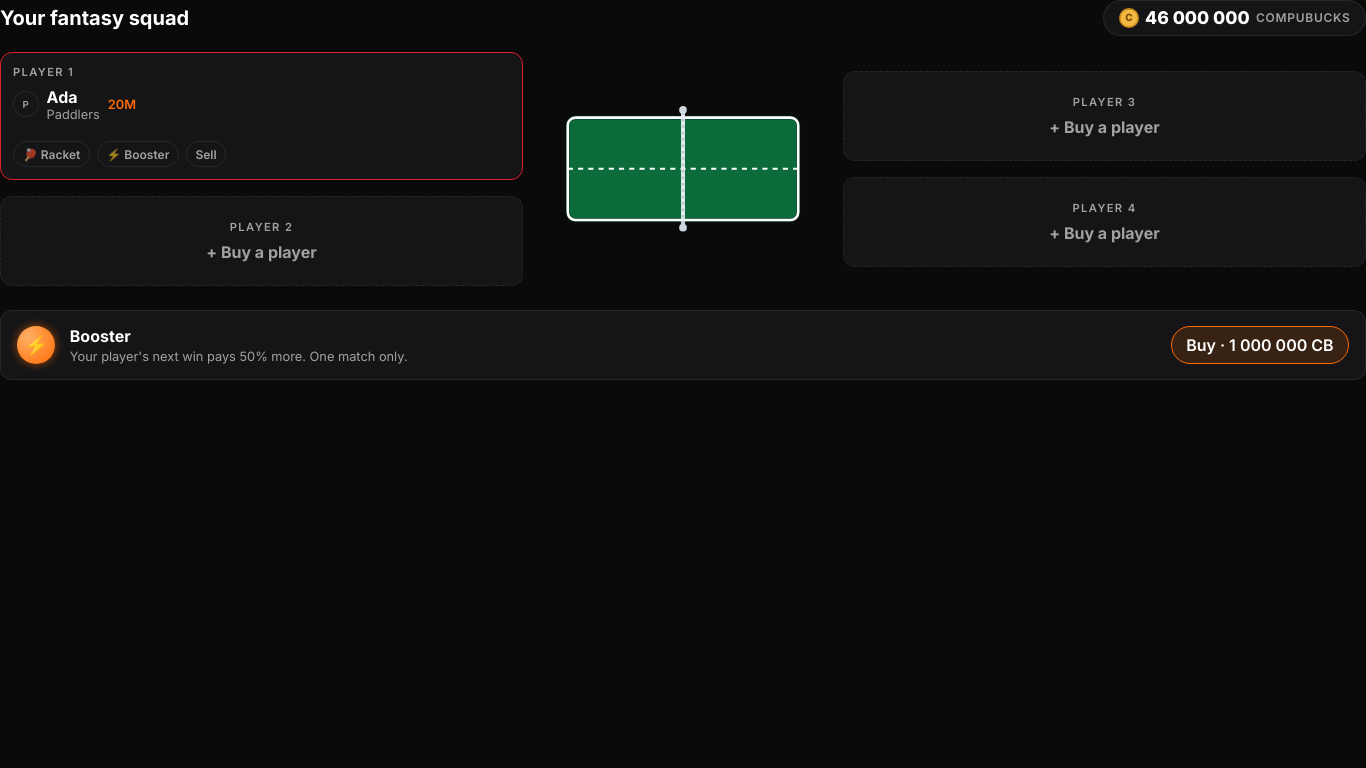
Test: FantasyTeam › shows the Save button as soon as something changes, and hides it when reverted
Expected: the button "save team" is not shown
Click the button "Player 2 + Buy a player": (262, 241) [1, 197, 522, 285]
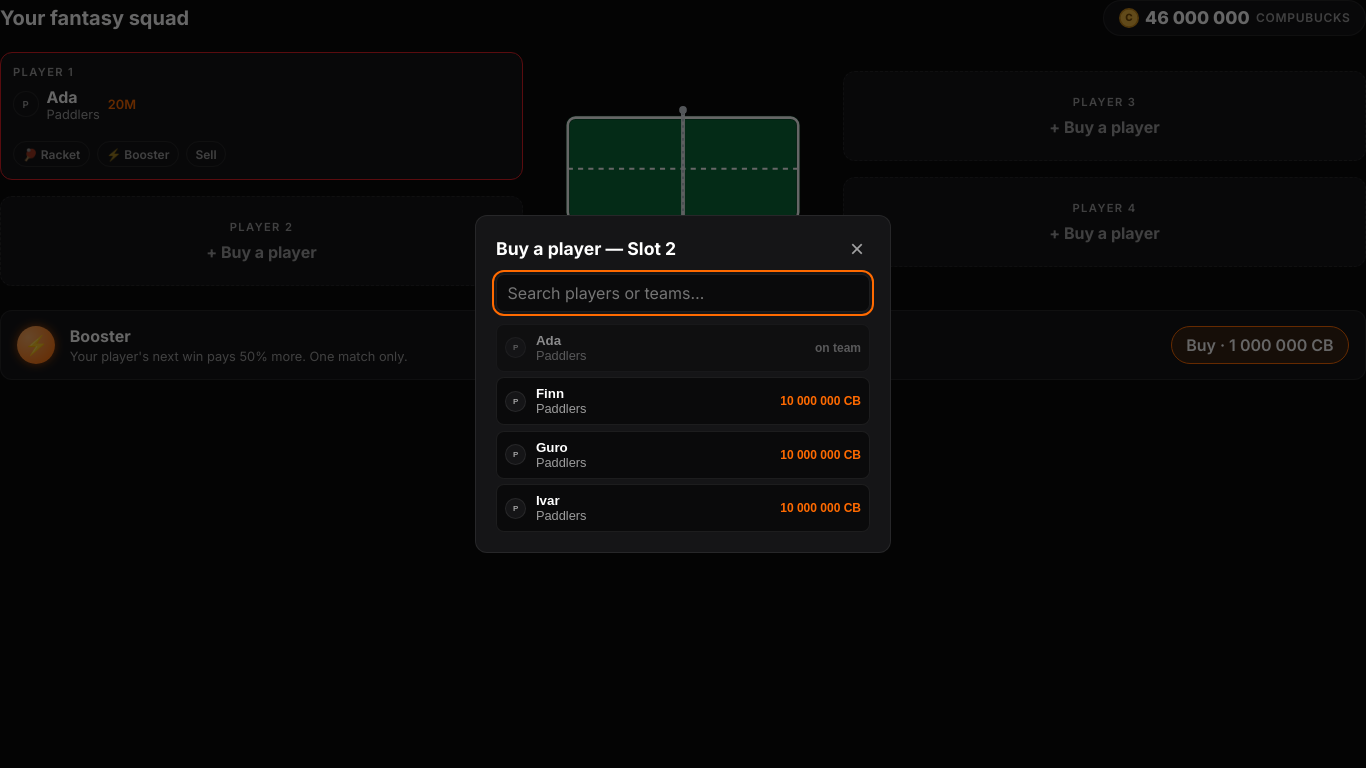
Expected: the dialog is shown
Click the button "P Finn Paddlers 10 000 000 CB": (561, 409) [496, 377, 870, 425]
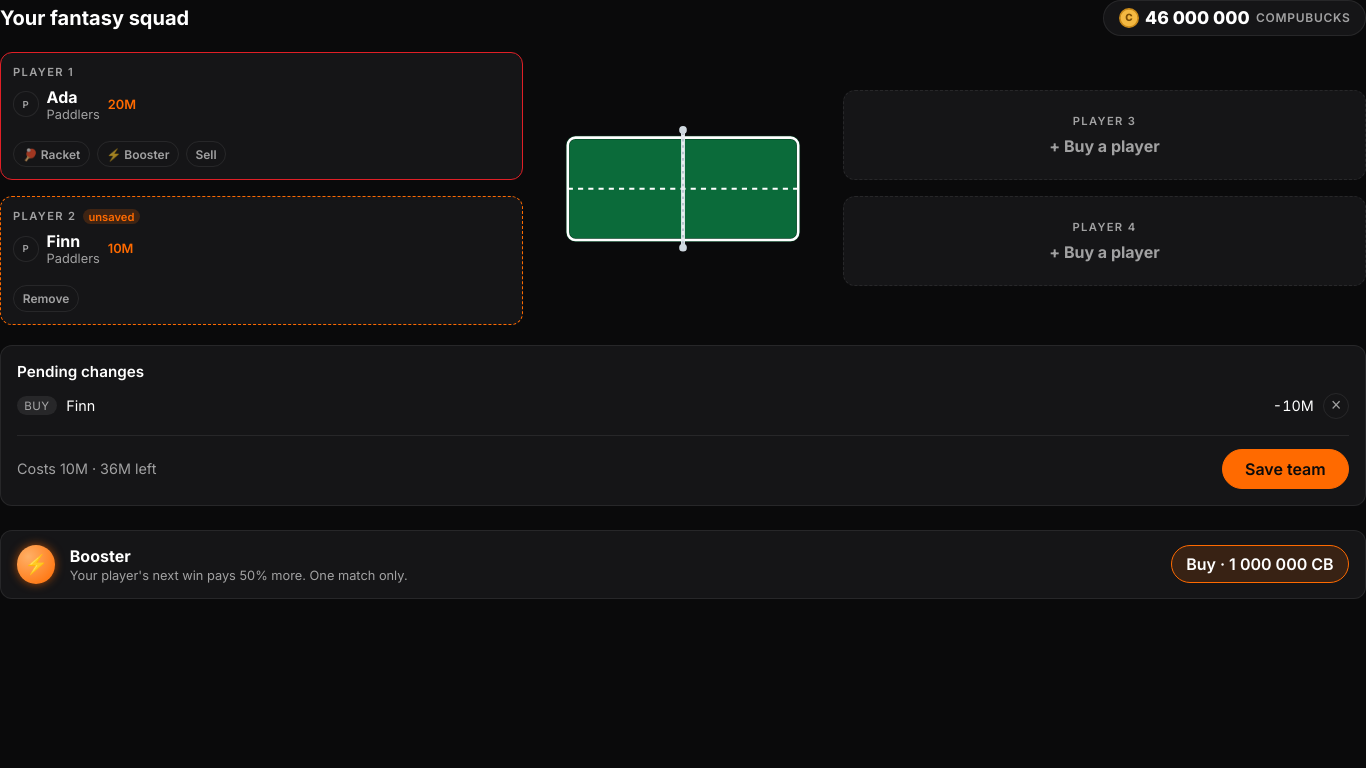
Expected: the button "Save team" is shown, [1222, 449, 1349, 489]
Click the button "Remove": (46, 299) [13, 285, 79, 312]
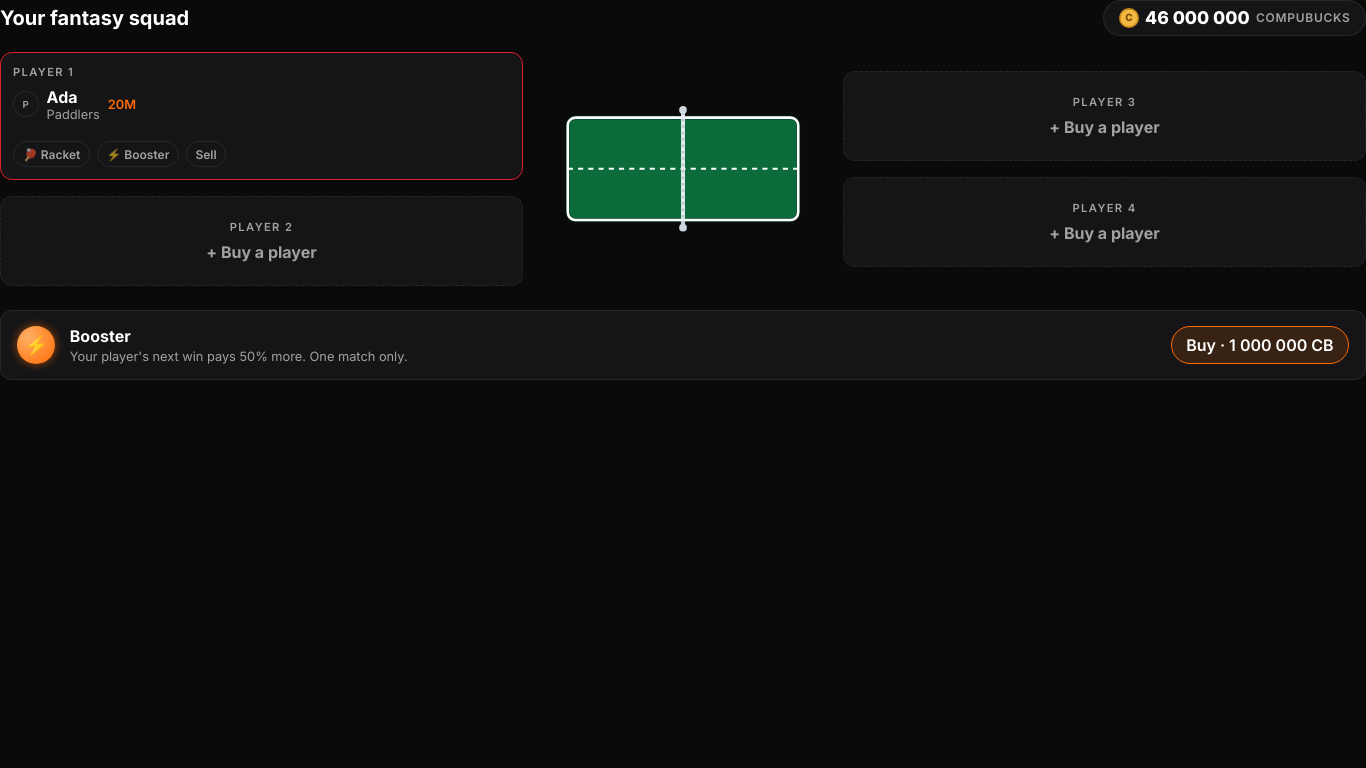
Expected: the button "Save team" is gone
